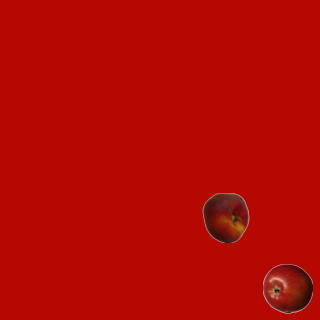Apple Braeburn: (262, 263, 312, 313)
Nectarine Flat: (200, 192, 250, 242)
